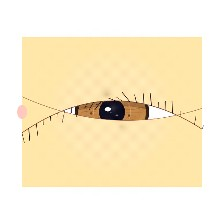hemorrhage_spot: (76, 87, 149, 145)
